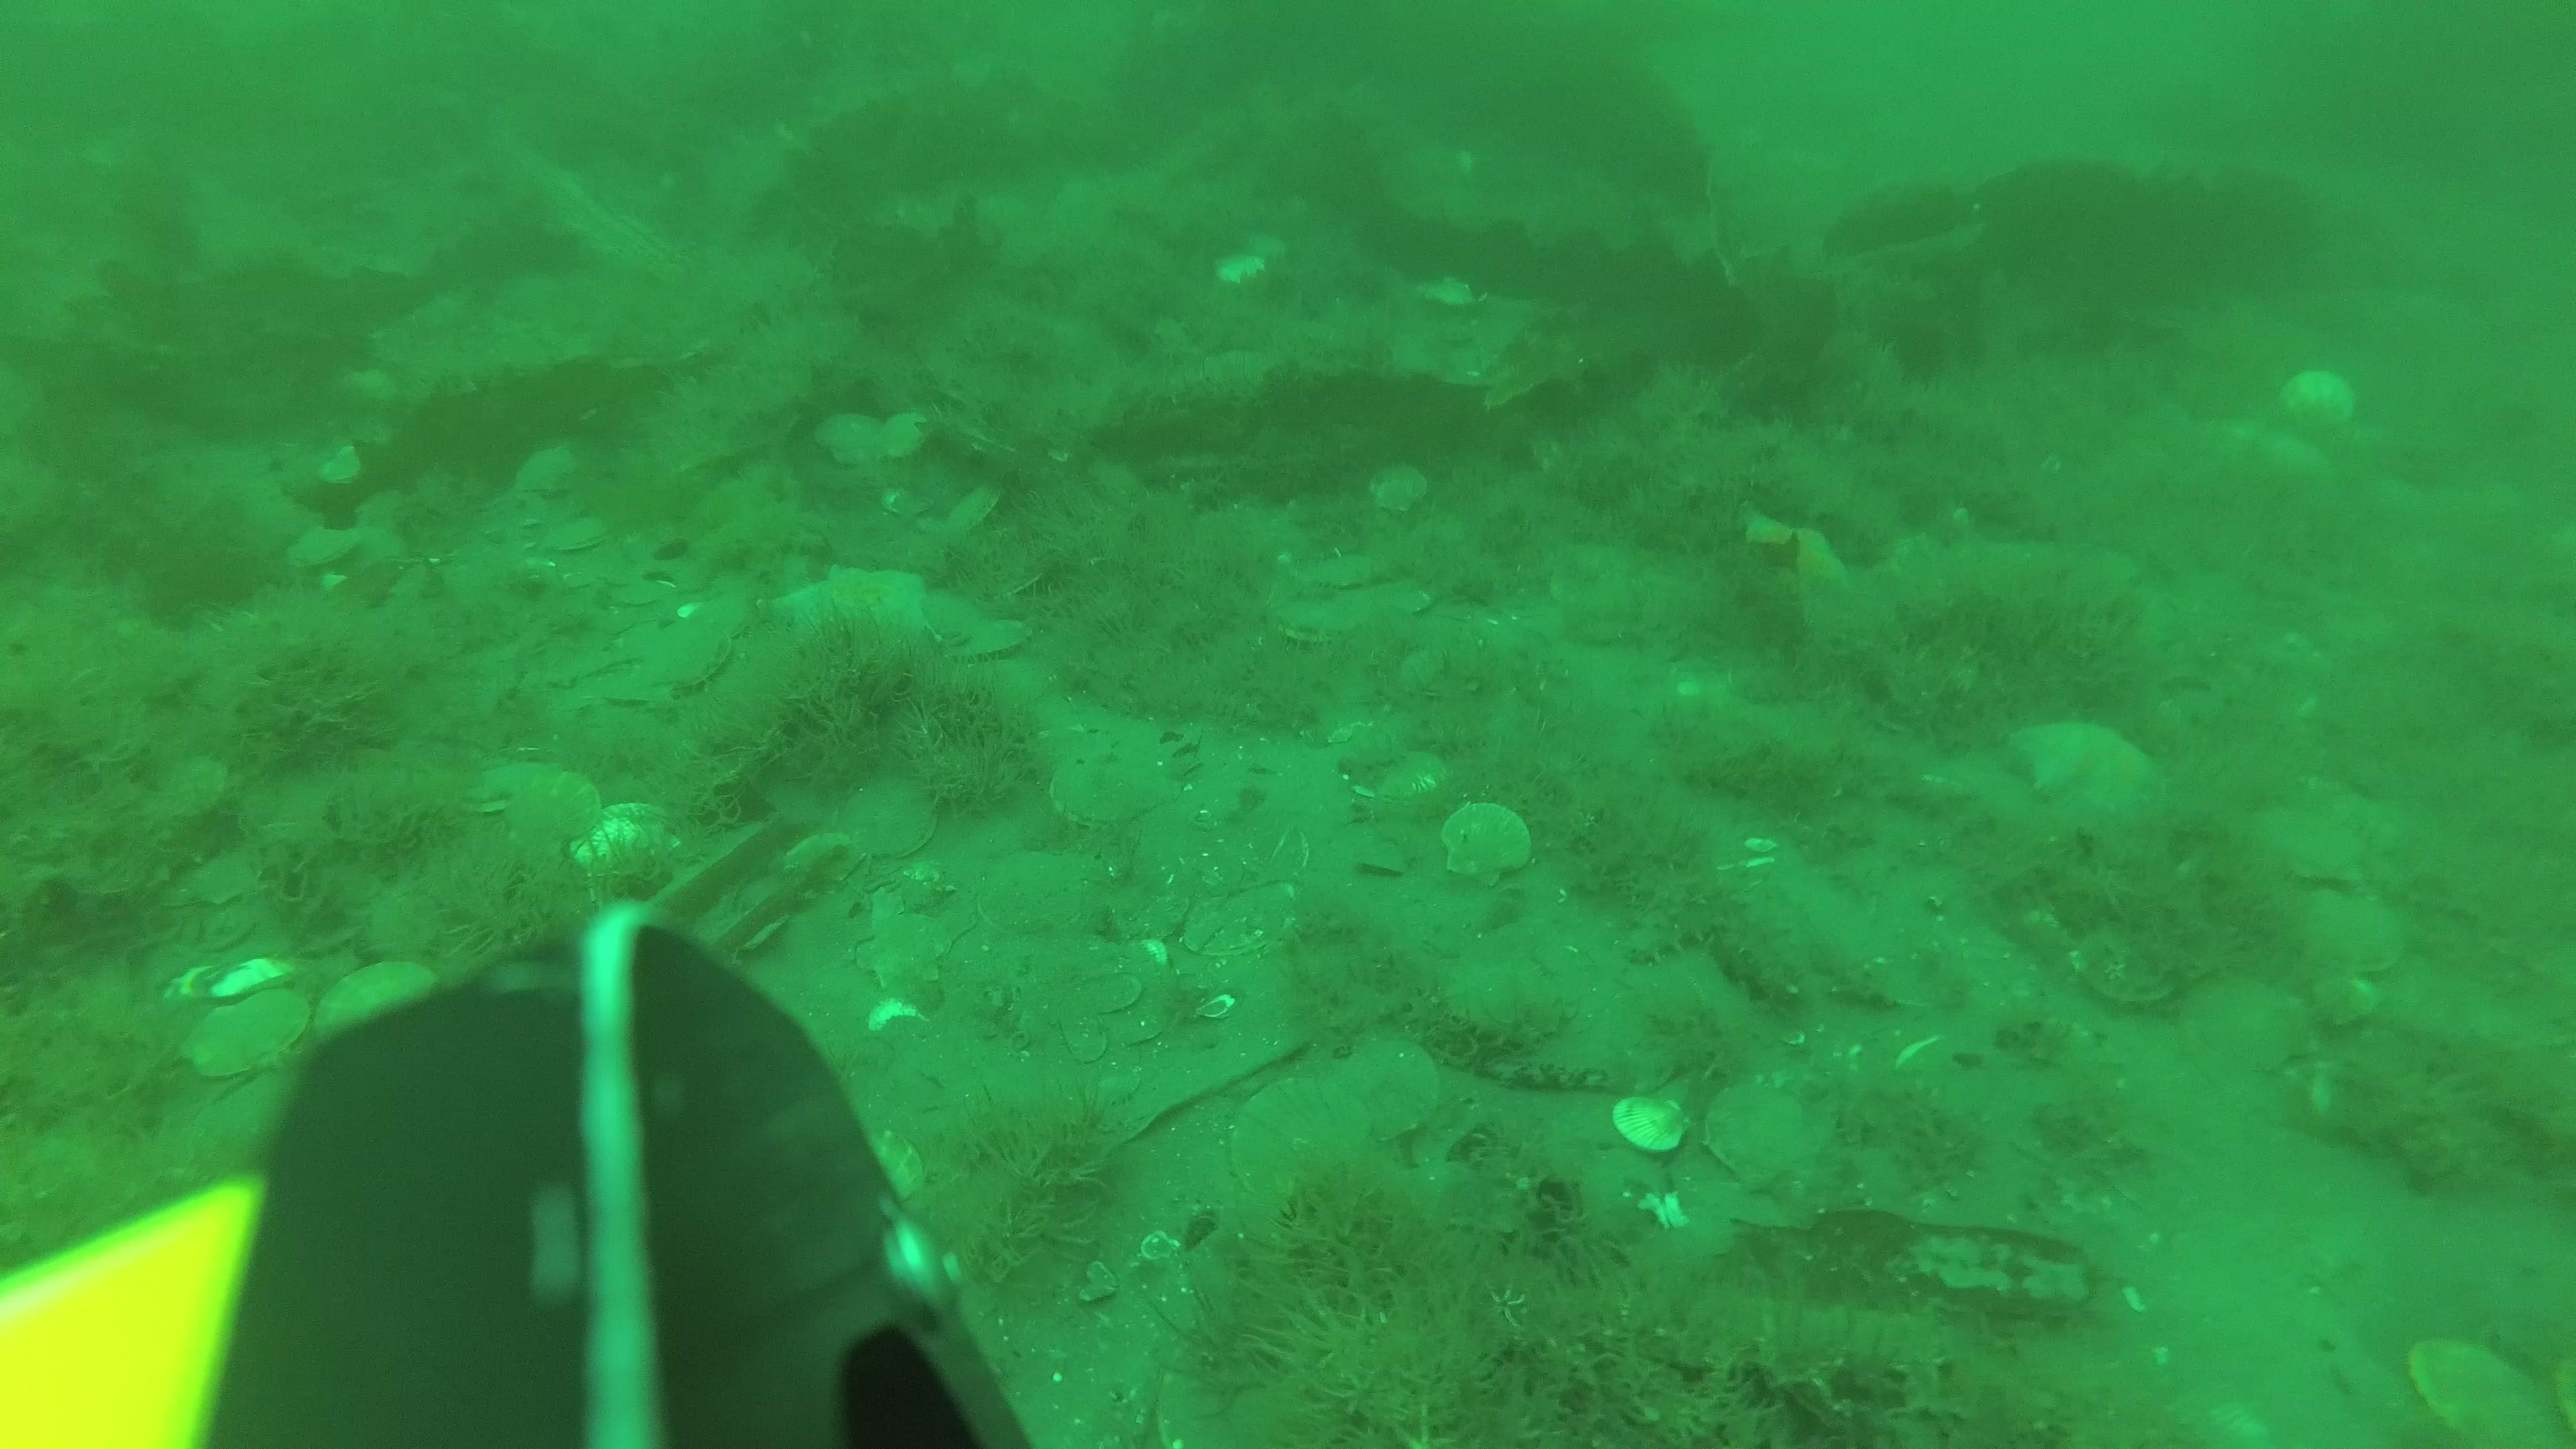holothurian: (1614, 893, 1709, 971)
scallop: (1228, 1074, 1376, 1214), (2403, 1325, 2560, 1449), (2180, 970, 2318, 1086), (2074, 915, 2224, 1012), (173, 985, 308, 1083), (2289, 883, 2408, 984), (1702, 1077, 1815, 1182), (1336, 1039, 1444, 1146), (971, 847, 1095, 941), (311, 955, 444, 1040), (835, 770, 947, 867), (568, 791, 681, 885), (1047, 761, 1182, 839), (1177, 881, 1306, 961), (2252, 801, 2371, 881), (506, 764, 600, 863), (1438, 796, 1537, 888), (860, 908, 955, 994), (168, 842, 269, 916), (1346, 741, 1453, 810), (1389, 637, 1491, 706), (2279, 356, 2364, 435), (648, 617, 732, 692), (1608, 1090, 1691, 1159), (950, 610, 1037, 669), (814, 407, 888, 469), (1269, 596, 1348, 651), (285, 527, 364, 577), (945, 479, 1003, 543), (1368, 465, 1430, 517), (513, 448, 575, 499), (548, 517, 623, 559), (879, 409, 936, 462), (1315, 547, 1387, 587)
starfish: (764, 556, 941, 672), (2006, 697, 2164, 828)
